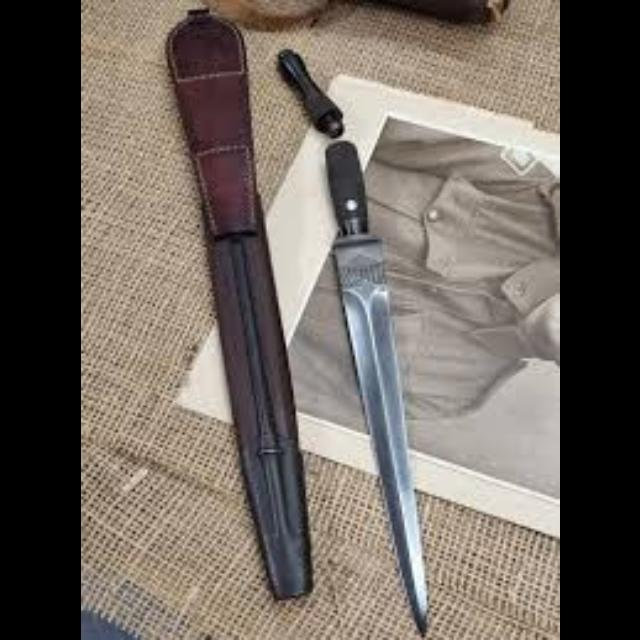Knife: (276, 47, 428, 635), (162, 6, 312, 600)
